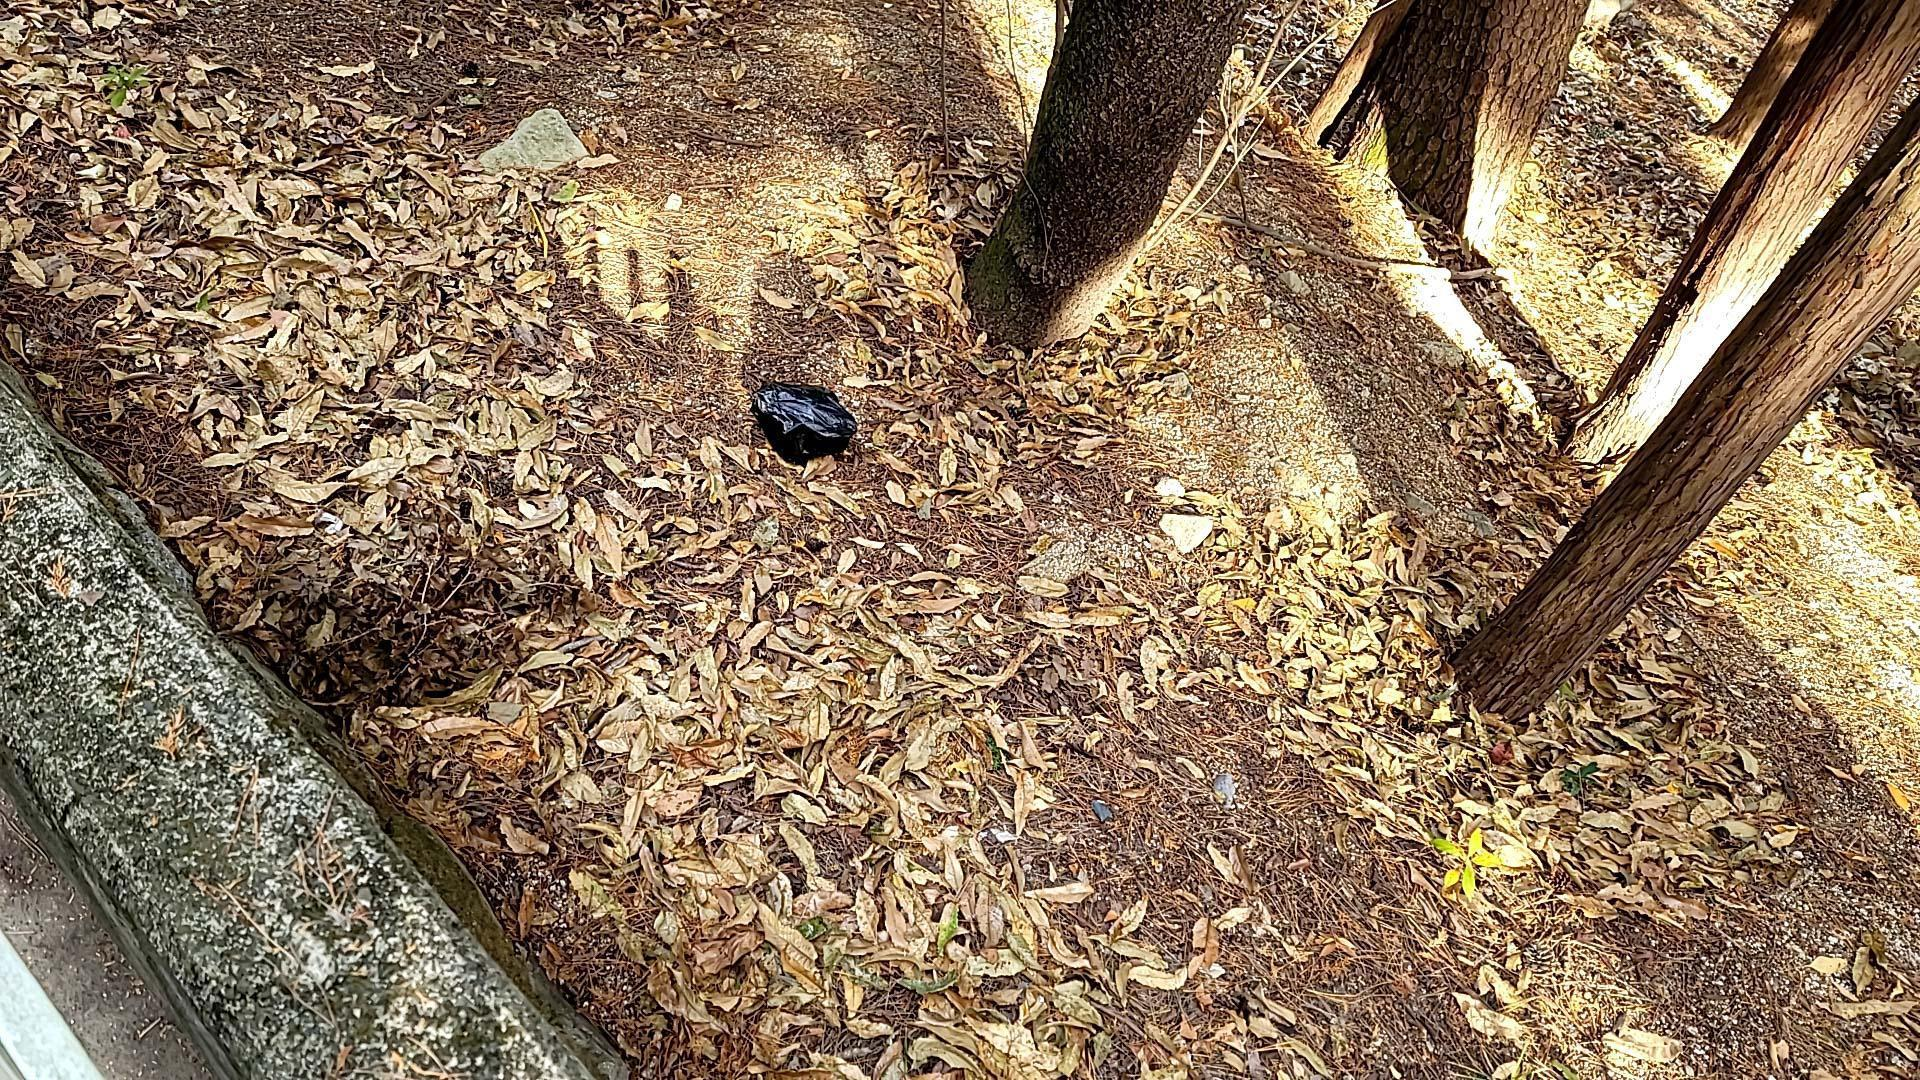black_bag: (744, 380, 858, 467)
